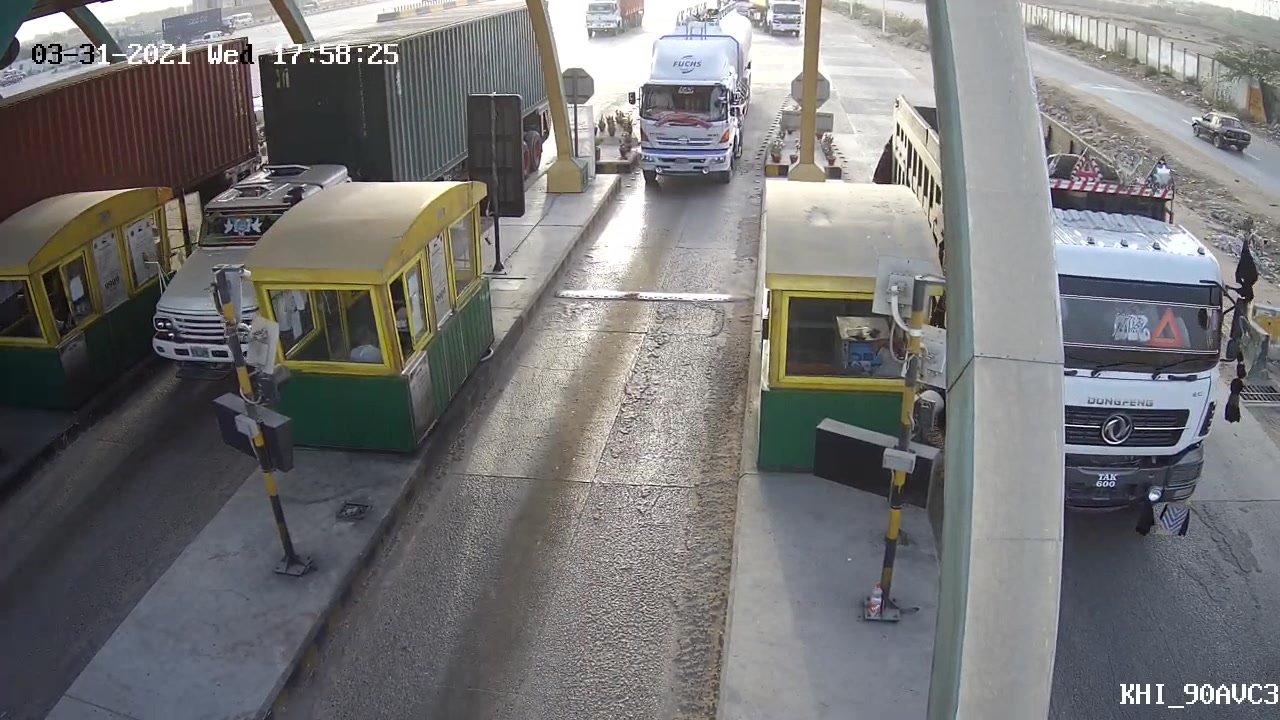F6: (624, 45, 751, 198)
